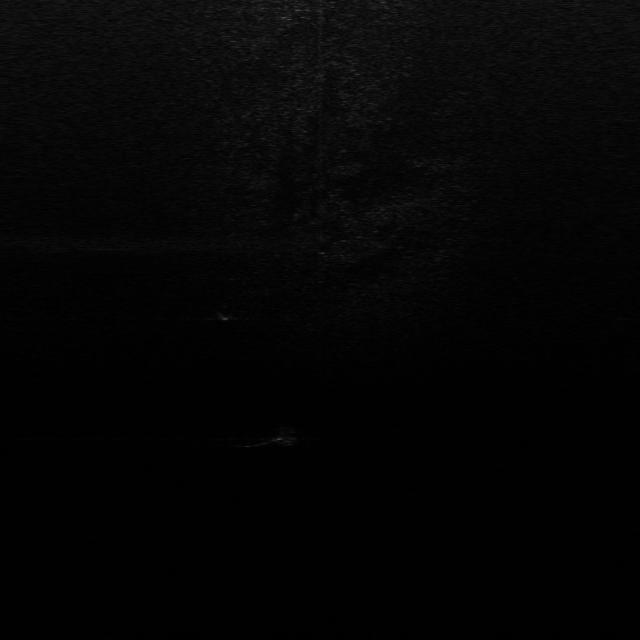ball: (268, 427, 301, 448)
circle cage: (212, 302, 238, 321)
